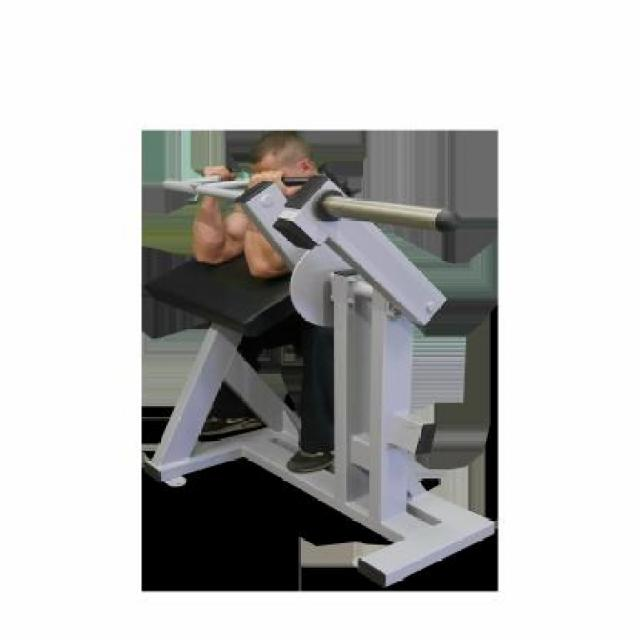arm curl machine: (143, 130, 497, 588)
